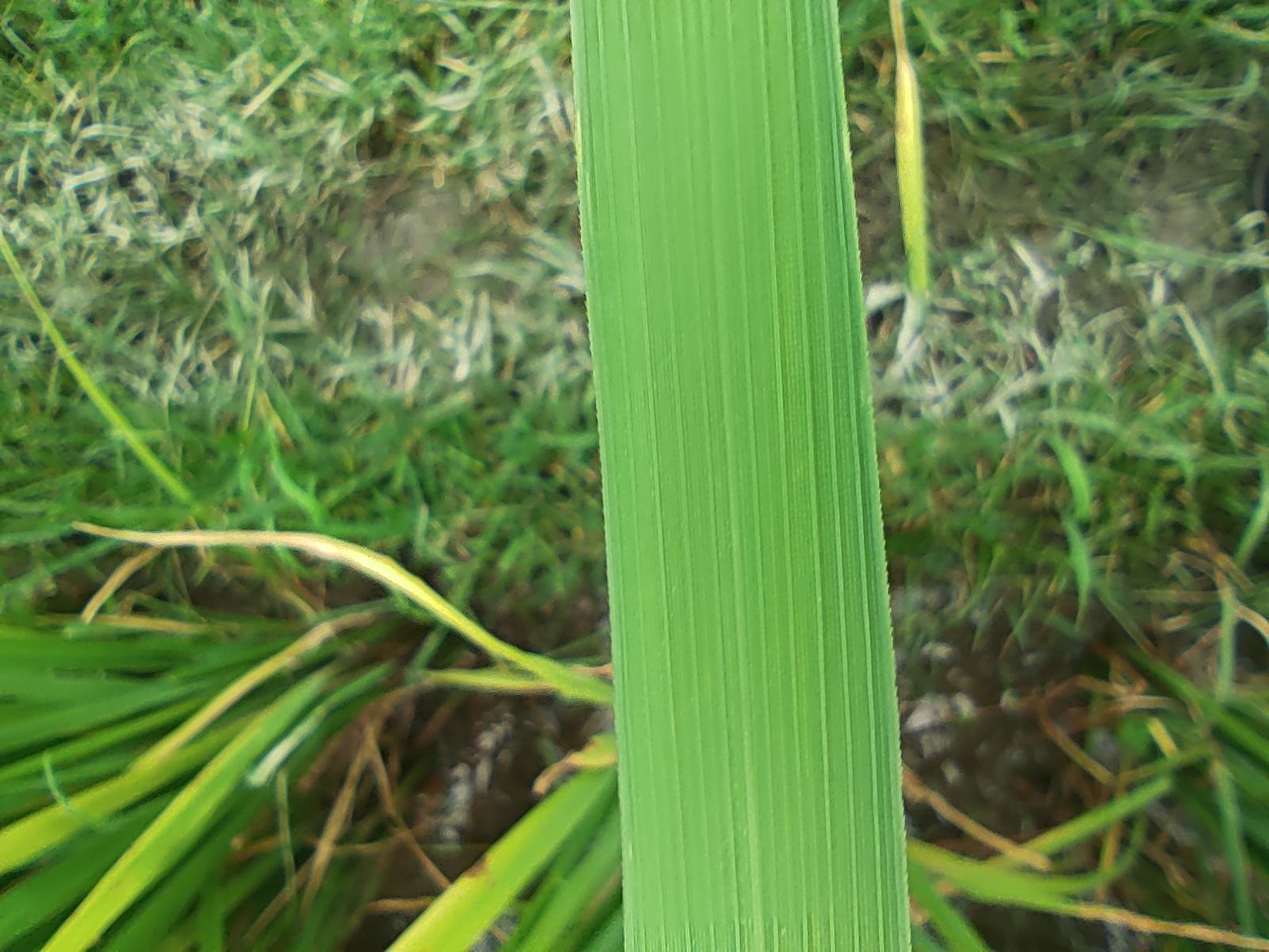Healthy: (0, 429, 1268, 682)
